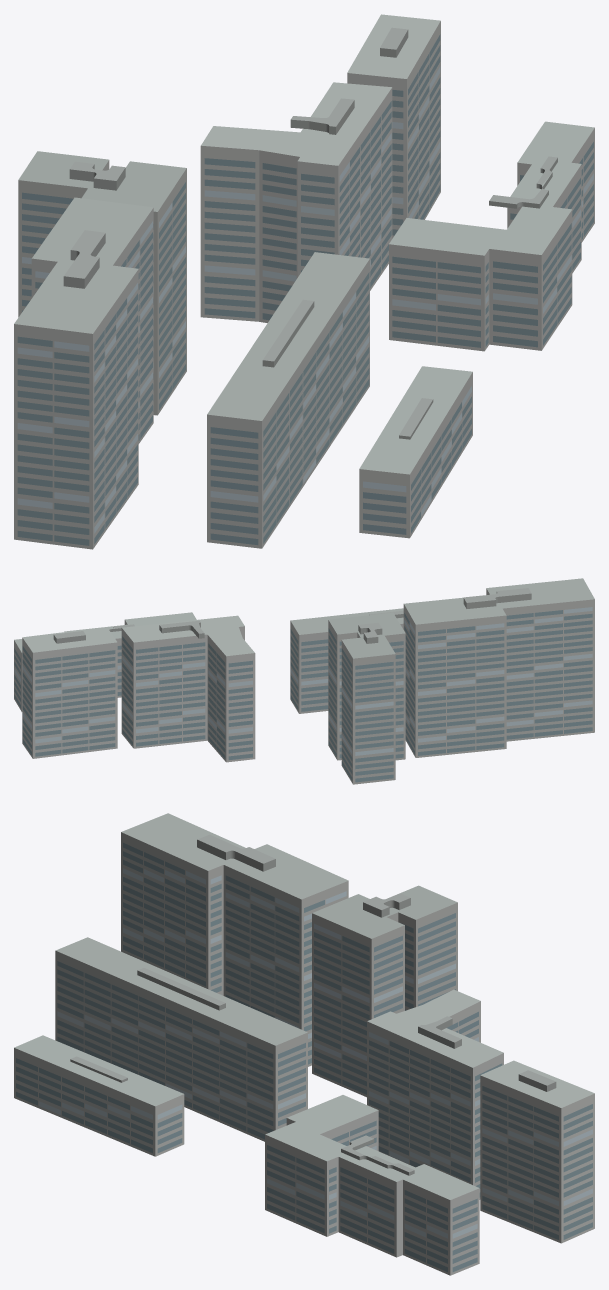
File: apt-a13887405.glb
3 renders of one model, top to bottom at view 1: azimuth 30°, elevation 25°; view 2: azimuth 150°, elevation 25°; view 3: azimuth 270°, elevation 25°, orthographic. The views are drawn at different scales.
Visible parts, largest first — view 1: apt-a13887405; view 2: apt-a13887405; view 3: apt-a13887405.
Boxes of the visible parts, x1,y1,x2,y2 form: apt-a13887405: [14, 14, 594, 549]; apt-a13887405: [14, 578, 594, 784]; apt-a13887405: [14, 813, 594, 1275].
Size of the model in its own units: 190 by 54 by 160.
